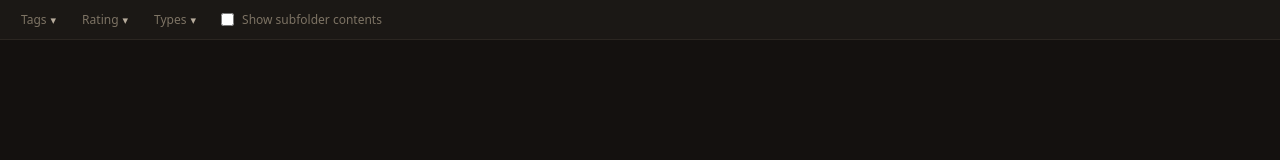
Test case: inside a folder (ADR-0035 §8) › says it is counting rather than showing the library's list first
Step 1. Click the button "Tags ▾" → click(39, 20), box [12,6,65,34]
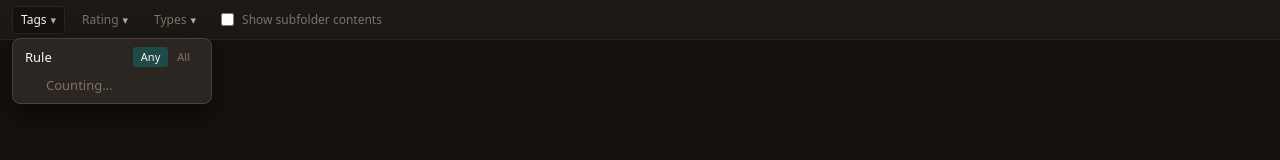
Check: the menu shows "Counting…", box [46,76,112,94]
